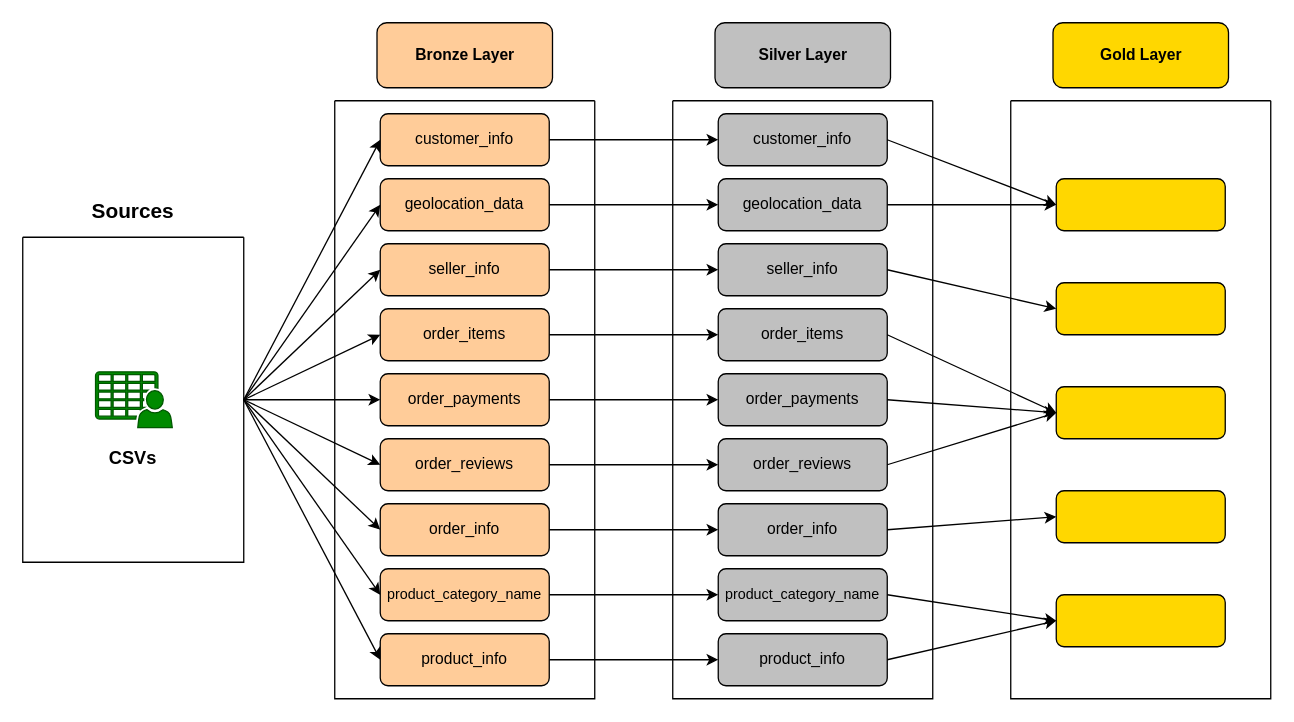
The diagram is 1294 pixels wide and 722 high, and some of its shapes have lost their labels. The box of each missing label's shape, as (x1, y1, x2, y2) in pixels:
dim_customers: (1055, 177, 1225, 231)
dim_products: (1055, 593, 1225, 647)
dim_sellers: (1055, 281, 1225, 335)
fact_order_items: (1055, 385, 1225, 439)
fact_orders: (1055, 489, 1225, 543)
